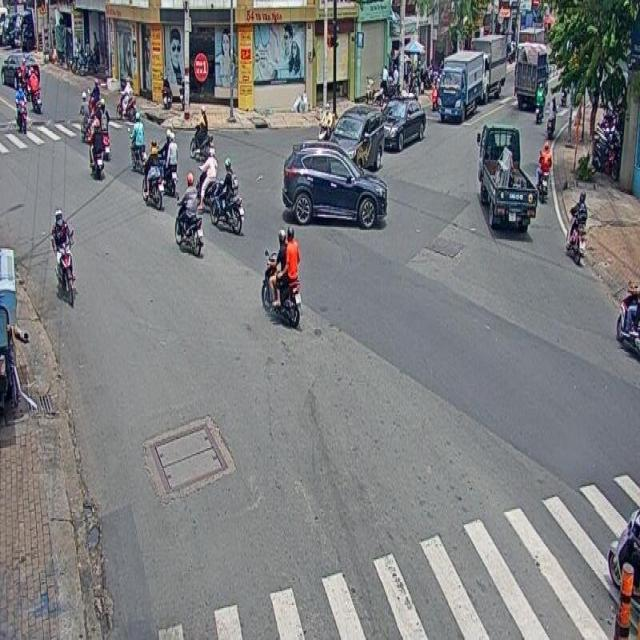car: (280, 146, 387, 232), (476, 120, 538, 237), (328, 104, 382, 169), (378, 93, 425, 148)
motorcycle: (262, 224, 303, 328), (173, 168, 211, 256), (209, 162, 242, 242), (52, 210, 75, 308), (566, 188, 587, 265), (142, 140, 163, 209), (128, 110, 146, 172), (535, 138, 552, 202)
truck: (438, 54, 487, 124)
